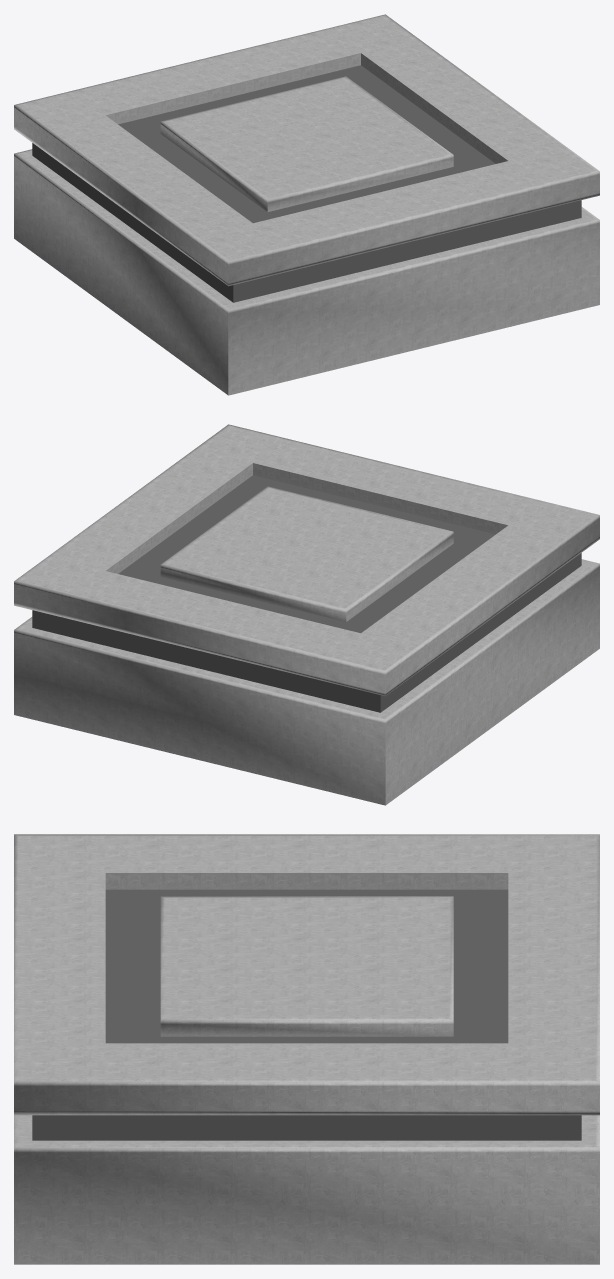
The model's file is restock.fbx.
3 renders of one model, top to bottom at view 1: azimuth 30°, elevation 25°; view 2: azimuth 150°, elevation 25°; view 3: azimuth 270°, elevation 25°, orthographic. The views are drawn at different scales.
Parts seen in each view (by area): view 1: mesh_21; view 2: mesh_21; view 3: mesh_21.
Boxes of the visible parts, bbox=[...] form: mesh_21: bbox=[14, 14, 599, 395]; mesh_21: bbox=[14, 424, 599, 805]; mesh_21: bbox=[14, 834, 599, 1264].
Bounding box in the file's own units: 512 × 176 × 512.
Materials: 2 (1 with a texture image).
